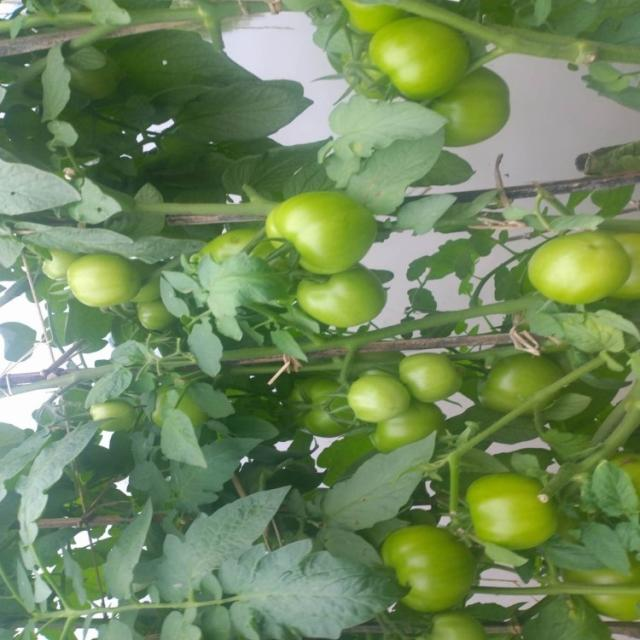tomato: (254, 188, 381, 275), (471, 462, 570, 563), (382, 514, 486, 607), (366, 14, 469, 94), (426, 68, 515, 146), (298, 268, 397, 338), (470, 353, 563, 421), (532, 229, 614, 306), (71, 247, 153, 314), (281, 362, 350, 439), (399, 346, 476, 408), (571, 562, 640, 620), (349, 362, 411, 424), (379, 403, 450, 448), (202, 222, 268, 262), (342, 7, 433, 36), (421, 606, 488, 639), (85, 398, 136, 441), (617, 229, 640, 302), (34, 242, 73, 277), (134, 299, 170, 334)
